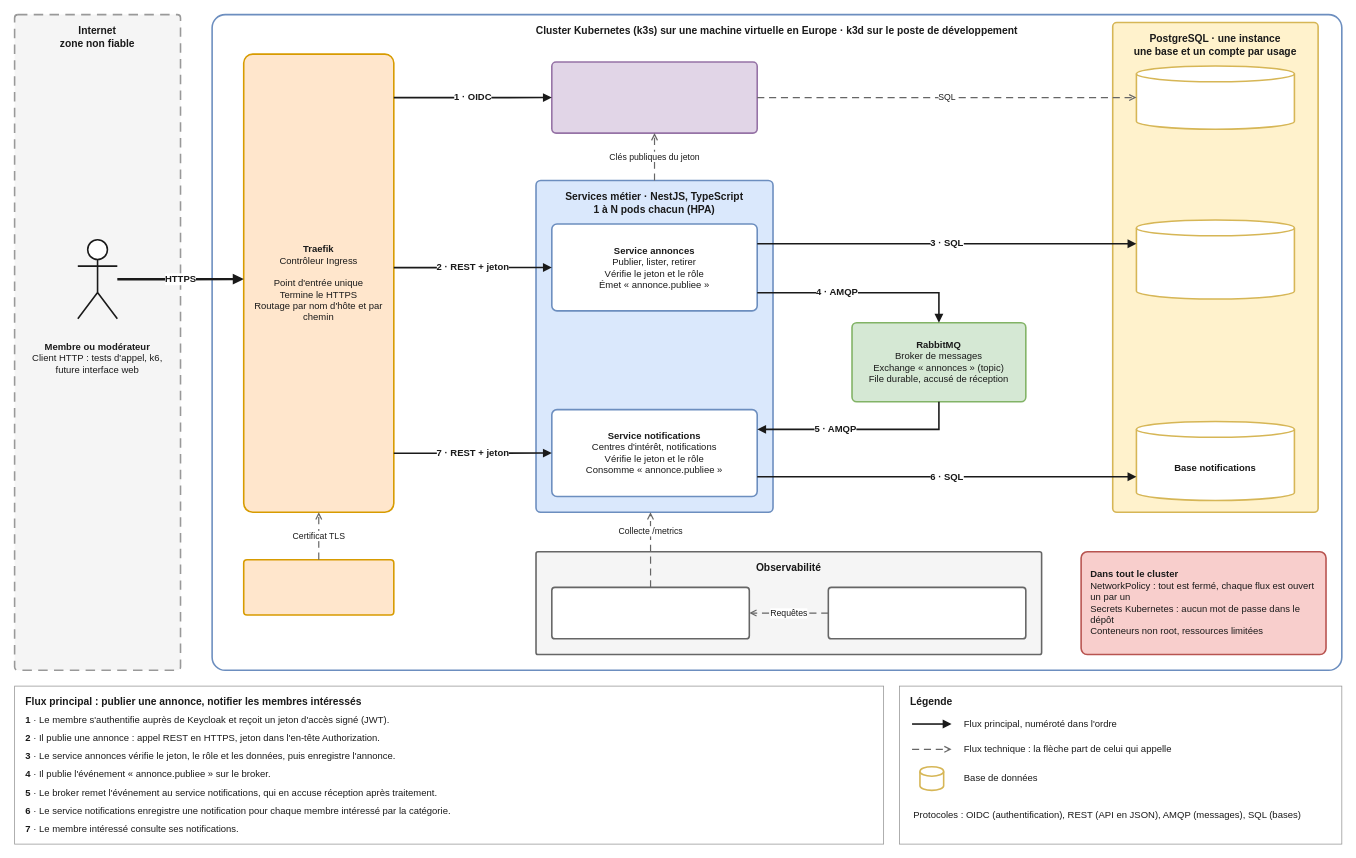
Some shapes in this 1356 by 858 pixel diagram are drawn without their labels. Here are the shapes that lost their labels. From the top down, the centre of each, then its label:
At pixel 654 97: "Keycloak Serveur d'identité (OpenID Connect) Rôles : membre, modérateur".
At pixel 1215 97: "Base keycloak".
At pixel 1215 259: "Base annonces".
At pixel 318 587: "cert-manager Émet et renouvelle le certificat".
At pixel 650 612: "Prometheus Collecte et conserve les métriques".
At pixel 926 612: "Grafana Tableaux de bord : p95, erreurs, pods".
